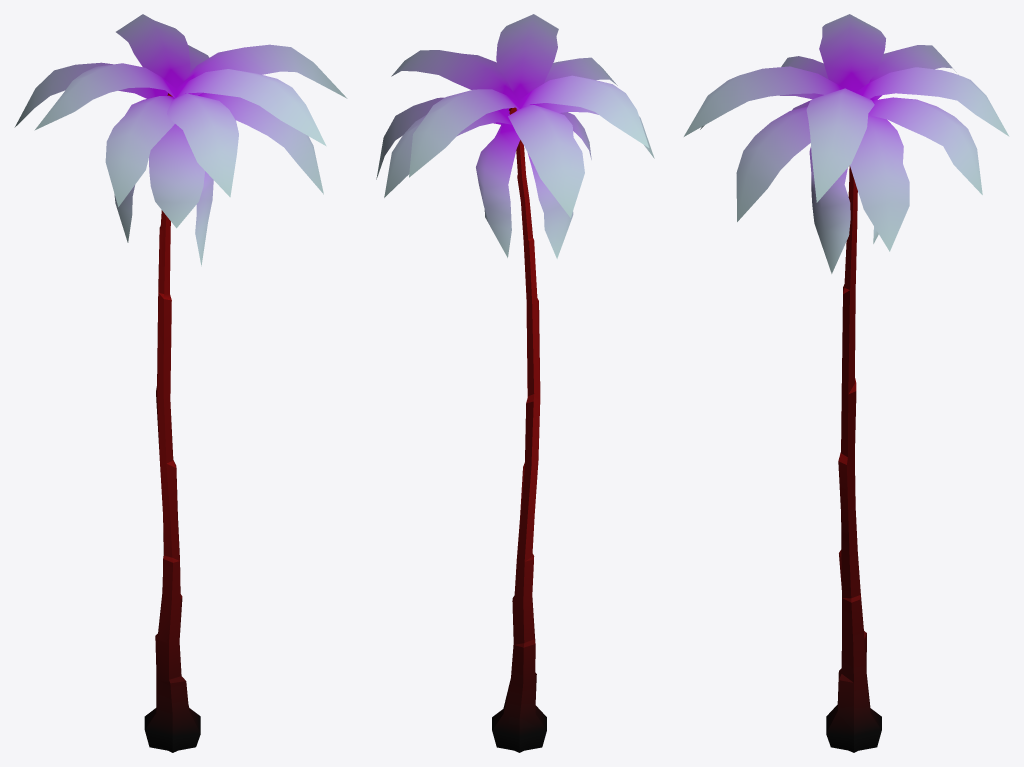
File: SM_Env_Tree_Palm_03.glb
The picture shows the model from 3 angles, left to right: view 1: azimuth 30°, elevation 25°; view 2: azimuth 150°, elevation 25°; view 3: azimuth 270°, elevation 25°; orthographic projection. The views are drawn at different scales.
Parts seen in each view (by area): view 1: SM_Env_Tree_Palm_03_LOD0; view 2: SM_Env_Tree_Palm_03_LOD0; view 3: SM_Env_Tree_Palm_03_LOD0.
Part boxes in pixels (box(x1,y1,x2,y2)): SM_Env_Tree_Palm_03_LOD0: box(14, 14, 347, 752); SM_Env_Tree_Palm_03_LOD0: box(376, 14, 654, 752); SM_Env_Tree_Palm_03_LOD0: box(684, 14, 1009, 752).
Size of what is drawn, in the model's own units: 5.2 by 11.96 by 5.06.
